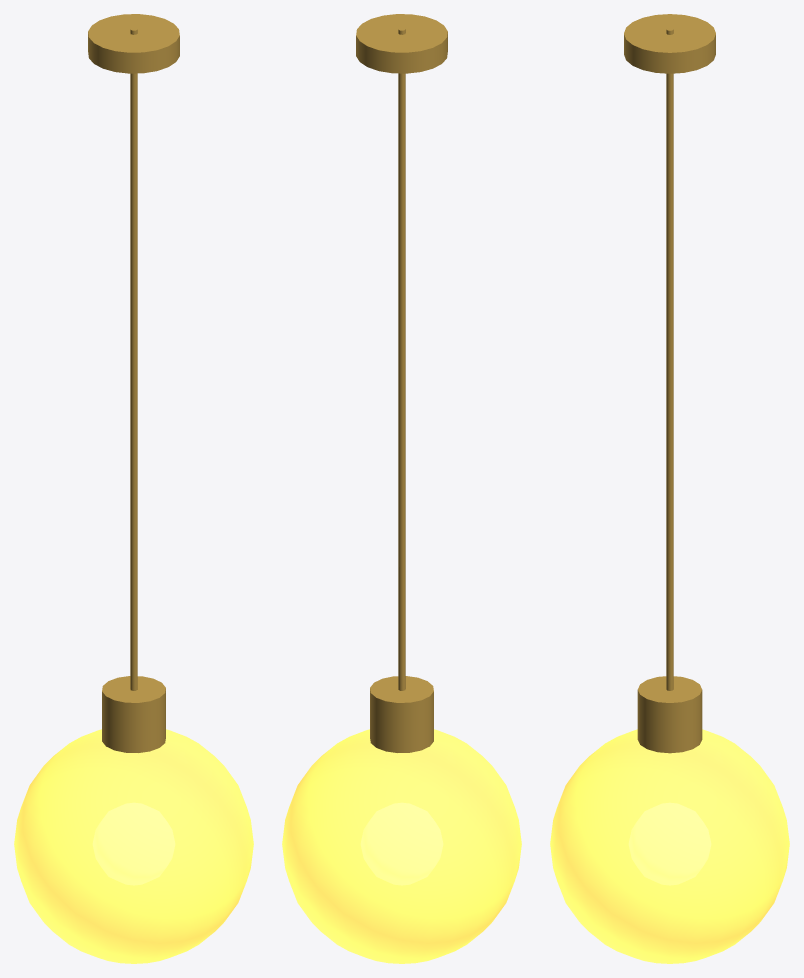
File: globe_pendant.glb
3 views of the same model, side by side, from view 1: azimuth 30°, elevation 25°; view 2: azimuth 150°, elevation 25°; view 3: azimuth 270°, elevation 25° (orthographic).
Parts seen in each view (by area): view 1: globe_pendant; view 2: globe_pendant; view 3: globe_pendant.
Part boxes in pixels (bbox=[...]): globe_pendant: bbox=[14, 14, 253, 963]; globe_pendant: bbox=[282, 14, 521, 963]; globe_pendant: bbox=[550, 14, 789, 963].
Size of the model in its own units: 0.26 by 1.11 by 0.26.
